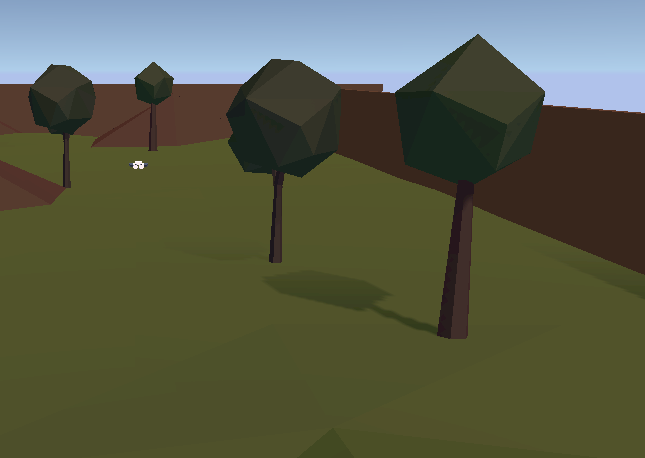tree: (395, 33, 546, 341), (219, 58, 345, 267), (22, 64, 95, 190), (130, 61, 181, 151)
